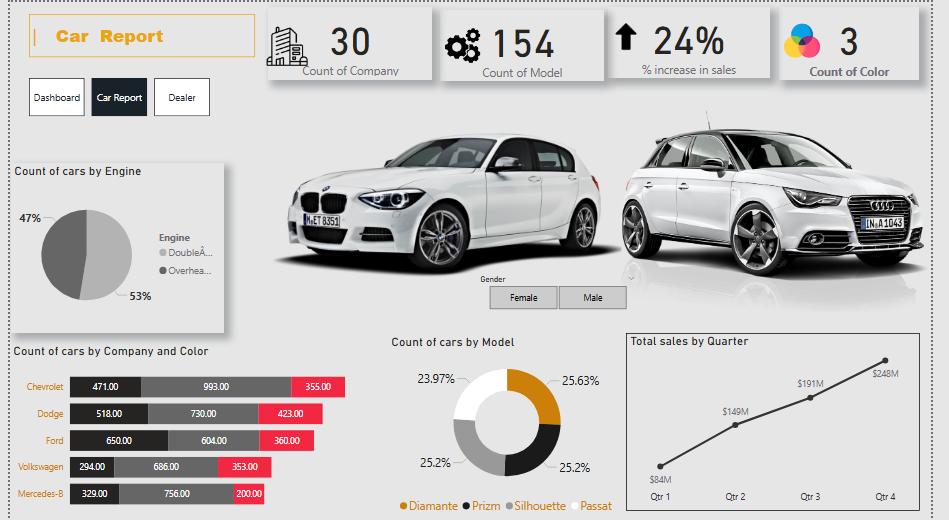

This screenshot's page, from the dashboard's own definition file:
{"tool":"powerbi","page":{"name":"Car Report","canvas":[1280,720],"ordinal":1},"visuals":[{"type":"shape","box":[26.6,17.3,313.5,59.8],"z":0,"group":"g1"},{"type":"image","box":[843.3,108.3,436.7,365],"z":1000,"group":"g1"},{"type":"textbox","box":[26.6,25.2,332.1,61.1],"z":2000,"group":"g1"},{"type":"image","box":[351.7,55,503.3,388.3],"z":3000,"group":"g1"},{"type":"image","box":[1068.3,23.3,63.3,60],"z":4000,"group":"g1"},{"type":"image","box":[598.3,30,60,60],"z":5000,"group":"g1"},{"type":"barChart","fields":{"Category":["Cars.Company"],"Y":["car sales.Count of cars"],"Series":["Cars.Color"]},"box":[0,473.3,508.3,245],"z":6000,"group":"g1"},{"type":"donutChart","fields":{"Y":["car sales.Count of cars"],"Category":["Cars.Model"]},"box":[524.7,461,330.8,259],"z":7000,"group":"g1"},{"type":"lineChart","fields":{"Category":["car sales.Date .Variation.Date Hierarchy.Quarter"],"Y":["car sales.Total sales"]},"box":[855.5,459.6,407.8,247.1],"z":8000,"group":"g1"},{"type":"slicer","fields":{"Values":["Customer.Gender"]},"box":[640.3,373.3,240.4,59.8],"z":9000,"group":"g1"},{"type":"card","fields":{"Values":["Count(Cars.Model)"]},"box":[597.8,10.6,228.5,98.3],"z":10000,"group":"g1"},{"type":"card","fields":{"Values":["Count(Cars.Color)"]},"box":[1068,6.6,195.3,102.3],"z":11000,"group":"g1"},{"type":"pieChart","fields":{"Category":["Cars.Engine"],"Y":["car sales.Count of cars"]},"box":[1.3,223.2,296.2,236.5],"z":12000,"group":"g1"},{"type":"card","fields":{"Values":["car sales.% increase in sales"]},"box":[830.3,6.6,224.5,98.3],"z":13000,"group":"g1"},{"type":"image","box":[830,0,50,95],"z":14000,"group":"g1"},{"type":"pageNavigator","box":[26.7,105,253.3,53.3],"z":16000,"group":"g1"},{"type":"card","fields":{"Values":["Count(Cars.Company)"]},"box":[358.7,6.6,228.5,101],"z":17000,"group":"g1"},{"type":"group","id":"g1","title":"Group 1","box":[0,0,1280,720],"z":17002},{"type":"image","box":[351.7,0,66.7,123.3],"z":18000,"group":"g1"}]}

Visuals, with their boxes in screenshot pixels (x1, y1, x2, y2), scaled from the page's 1280x720 canvas onto the 949x520 screenshot:
shape: locate(20, 12, 252, 56)
image: locate(625, 78, 948, 342)
textbox: locate(20, 18, 266, 62)
image: locate(261, 40, 634, 320)
image: locate(792, 17, 839, 60)
image: locate(444, 22, 488, 65)
barChart - Cars.Company x car sales.Count of cars: locate(0, 342, 377, 519)
donutChart - car sales.Count of cars x Cars.Model: locate(389, 333, 634, 519)
lineChart - car sales.Date .Variation.Date Hierarchy.Quarter x car sales.Total sales: locate(634, 332, 937, 510)
slicer - Customer.Gender: locate(475, 270, 653, 313)
card - Count(Cars.Model): locate(443, 8, 613, 79)
card - Count(Cars.Color): locate(792, 5, 937, 79)
pieChart - Cars.Engine x car sales.Count of cars: locate(1, 161, 221, 332)
card - car sales.% increase in sales: locate(616, 5, 782, 76)
image: locate(615, 0, 652, 69)
pageNavigator: locate(20, 76, 208, 114)
card - Count(Cars.Company): locate(266, 5, 435, 78)
"Group 1" group: locate(0, 0, 948, 519)
image: locate(261, 0, 310, 89)
